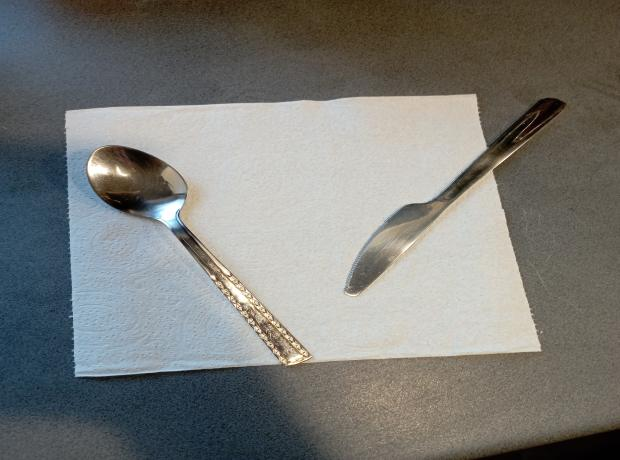metal: (87, 145, 311, 366), (342, 96, 570, 296)
